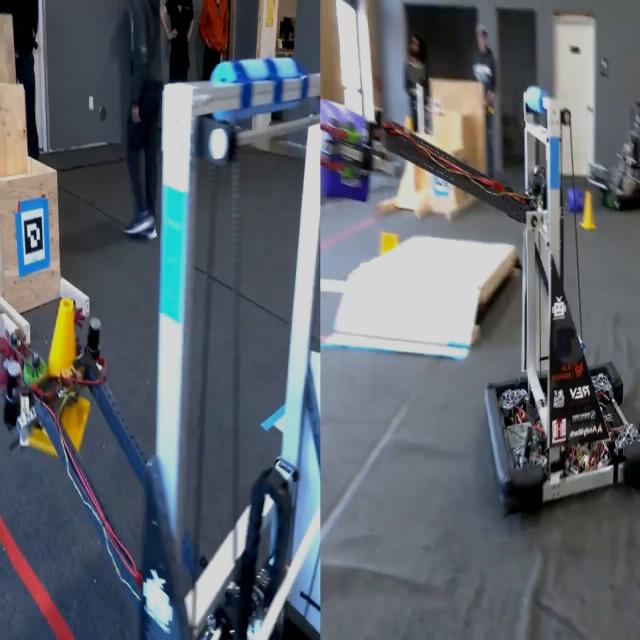frc_cone: (24, 296, 93, 456), (583, 191, 596, 232), (380, 229, 400, 255)
frc_cube: (317, 109, 372, 203), (568, 184, 582, 217)
